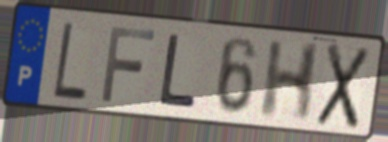6: (214, 35, 258, 118)
F: (98, 24, 158, 105)
H: (256, 39, 324, 124)
L: (157, 31, 200, 110), (51, 18, 89, 104)
X: (313, 40, 373, 132)
